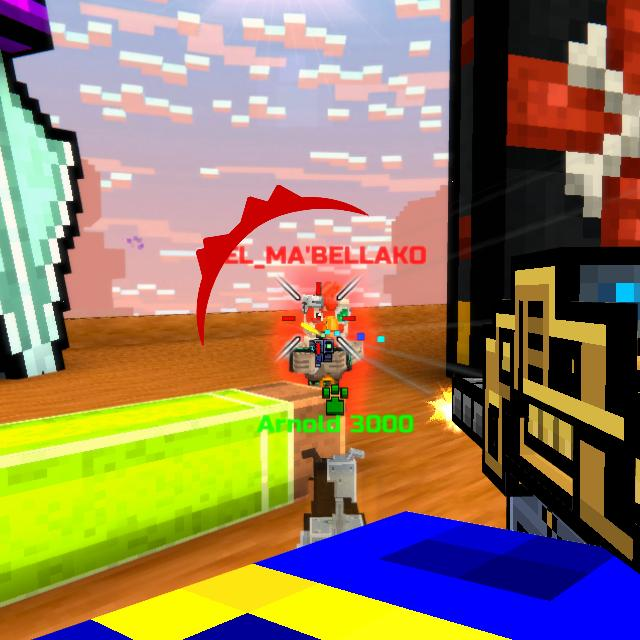Enemy: (287, 292, 367, 425)
